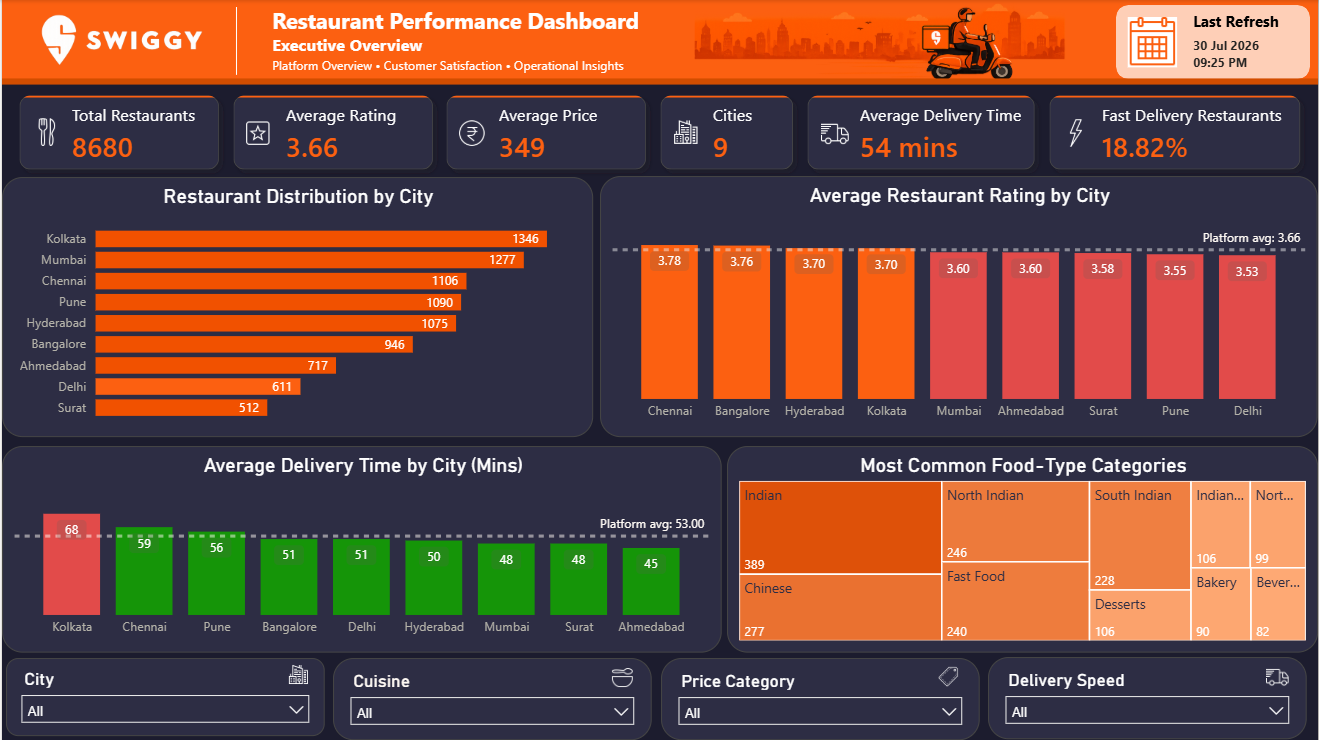

What the dashboard file says about the page in this screenshot:
{"tool":"powerbi","page":{"name":"Executive Overview","canvas":[1280,720],"ordinal":0},"visuals":[{"type":"group","id":"g1","title":"Group 1","box":[1083.6,4.9,188.7,72],"z":0,"group":"g2"},{"type":"shape","title":"Last Refresh","box":[1083.6,4.9,188.7,72],"z":0,"group":"g1"},{"type":"cardVisual","title":"Total Resturant ","fields":{"Data":["CountNonNull(swiggy.Restaurant)"]},"box":[0,75.5,228.6,106],"z":0,"group":"g4"},{"type":"cardVisual","title":"Total Resturant ","fields":{"Data":["swiggy.Fast Delivery %"]},"box":[1001.8,75.9,278.2,106],"z":0,"group":"g9"},{"type":"clusteredBarChart","title":"Restaurant Distribution by City","fields":{"Category":["swiggy.City"],"Y":["swiggy.Total Restaurants"]},"box":[0,172.2,574.8,252.9],"z":0},{"type":"image","box":[1068,16.6,102.1,48.6],"z":1000,"group":"g2"},{"type":"image","box":[1031,108,27.2,42.8],"z":1000,"group":"g9"},{"type":"clusteredColumnChart","title":"Average Restaurant Rating by City","fields":{"Category":["swiggy.City"],"Y":["swiggy.Average Rating"]},"box":[581.6,171.2,698.4,253.9],"z":1000},{"type":"textbox","box":[1153.6,4.9,96.3,32.1],"z":2000,"group":"g1"},{"type":"clusteredColumnChart","title":"Average Delivery Time by City (Mins)","fields":{"Category":["swiggy.City"],"Y":["swiggy.Average Delivery Time"]},"box":[0,433.8,700.3,201.3],"z":2000},{"type":"textbox","box":[1153.6,29.2,116.7,47.7],"z":3000,"group":"g1"},{"type":"treemap","title":"Most Common Food-Type Categories","fields":{"Group":["swiggy.Food type"],"Values":["swiggy.Total Restaurants"]},"box":[705.2,433.8,574.8,201.3],"z":3000},{"type":"shape","box":[0,0,1280,79.8],"z":4000},{"type":"slicer","fields":{"Values":["swiggy.City"]},"box":[3.9,640,310,75.9],"z":4000,"group":"g10"},{"type":"slicer","fields":{"Values":["swiggy.Food type"]},"box":[322.3,640,310,80],"z":4000,"group":"g12"},{"type":"image","box":[414.3,0,842.3,79.8],"z":5000},{"type":"slicer","fields":{"Values":["swiggy.Price Category"]},"box":[640.6,640,310,79.8],"z":5000,"group":"g11"},{"type":"group","id":"g2","title":"Group 2","box":[1068,4.9,204.3,72],"z":6000},{"type":"slicer","fields":{"Values":["swiggy.Delivery Category"]},"box":[959,639,310,79.8],"z":6000,"group":"g13"},{"type":"group","id":"g3","title":"Group 3","box":[0,0,674,79.8],"z":7000},{"type":"group","id":"g4","title":"Group 4","box":[0,75.5,228.3,106.2],"z":8000},{"type":"group","id":"g5","title":"Group 5","box":[207.7,75.9,228.6,106],"z":9000},{"type":"group","id":"g6","title":"Group 6","box":[415.7,75.9,228.6,106],"z":10000},{"type":"group","id":"g7","title":"Group 7","box":[623.7,75.9,163.4,106],"z":11000},{"type":"group","id":"g8","title":"Group 8","box":[766.6,75.9,255.8,106],"z":12000},{"type":"group","id":"g9","title":"Group 9","box":[1001.8,75.9,278.2,106],"z":13000},{"type":"image","box":[30.2,106.6,27.2,43.8],"z":13000,"group":"g4"},{"type":"shape","box":[0,59.3,1280,39.9],"z":14000},{"type":"cardVisual","title":"Total Resturant ","fields":{"Data":["swiggy.Average Rating"]},"box":[207.7,75.9,228.6,106],"z":14000,"group":"g5"},{"type":"image","box":[0,0,235.4,79.8],"z":15000,"group":"g3"},{"type":"image","box":[234.9,108,27.2,42.8],"z":15000,"group":"g5"},{"type":"group","id":"g10","title":"Group 10","box":[3.9,635.1,310,80.7],"z":15000},{"type":"textbox","box":[257.8,0,416.3,79.8],"z":16000,"group":"g3"},{"type":"cardVisual","title":"Total Resturant ","fields":{"Data":["swiggy.Average Price"]},"box":[415.7,75.9,228.6,106],"z":16000,"group":"g6"},{"type":"group","id":"g11","title":"Group 11","box":[640.6,637.1,310,82.7],"z":16000},{"type":"image","box":[443.9,108,27.2,42.8],"z":17000,"group":"g6"},{"type":"group","id":"g12","title":"Group 12","box":[322.3,638.1,310,81.9],"z":17000},{"type":"shape","box":[177,6.8,102.1,66.1],"z":17009,"group":"g3"},{"type":"cardVisual","title":"Total Resturant ","fields":{"Data":["Count(swiggy.City)"]},"box":[623.7,75.9,163.4,106],"z":18000,"group":"g7"},{"type":"image","box":[908.1,637.1,23.7,41.8],"z":18000,"group":"g11"},{"type":"group","id":"g13","title":"Group 13","box":[959,637.1,310,81.7],"z":18000},{"type":"image","box":[651.9,107,27.2,43],"z":19000,"group":"g7"},{"type":"image","box":[276.9,635.1,22.2,42.8],"z":19000,"group":"g10"},{"type":"image","box":[592.4,638.1,22.4,41.8],"z":19002,"group":"g12"},{"type":"image","box":[1229.4,637.1,22.4,41.8],"z":19004,"group":"g13"},{"type":"cardVisual","title":"Total Resturant ","fields":{"Data":["swiggy.Average Delivery Time Display"]},"box":[766.6,75.9,255.8,106],"z":20000,"group":"g8"},{"type":"image","box":[796.8,108,27.2,43],"z":21000,"group":"g8"}]}

Visuals, with their boxes in screenshot pixels (x1, y1, x2, y2), scaled from the page's 1280x720 canvas onto the 1319x740 screenshot:
"Group 1" group: region(1117, 5, 1311, 79)
"Last Refresh" shape: region(1117, 5, 1311, 79)
"Total Resturant " cardVisual: region(0, 78, 236, 187)
"Total Resturant " cardVisual: region(1032, 78, 1318, 187)
"Restaurant Distribution by City" clusteredBarChart: region(0, 177, 592, 437)
image: region(1101, 17, 1206, 67)
image: region(1062, 111, 1090, 155)
"Average Restaurant Rating by City" clusteredColumnChart: region(599, 176, 1318, 437)
textbox: region(1189, 5, 1288, 38)
"Average Delivery Time by City (Mins)" clusteredColumnChart: region(0, 446, 722, 653)
textbox: region(1189, 30, 1309, 79)
"Most Common Food-Type Categories" treemap: region(727, 446, 1318, 653)
shape: region(0, 0, 1318, 82)
slicer - swiggy.City: region(4, 658, 323, 736)
slicer - swiggy.Food type: region(332, 658, 652, 739)
image: region(427, 0, 1295, 82)
slicer - swiggy.Price Category: region(660, 658, 980, 739)
"Group 2" group: region(1101, 5, 1311, 79)
slicer - swiggy.Delivery Category: region(988, 657, 1308, 739)
"Group 3" group: region(0, 0, 695, 82)
"Group 4" group: region(0, 78, 235, 187)
"Group 5" group: region(214, 78, 450, 187)
"Group 6" group: region(428, 78, 664, 187)
"Group 7" group: region(643, 78, 811, 187)
"Group 8" group: region(790, 78, 1054, 187)
"Group 9" group: region(1032, 78, 1318, 187)
image: region(31, 110, 59, 155)
shape: region(0, 61, 1318, 102)
"Total Resturant " cardVisual: region(214, 78, 450, 187)
image: region(0, 0, 243, 82)
image: region(242, 111, 270, 155)
"Group 10" group: region(4, 653, 323, 736)
textbox: region(266, 0, 695, 82)
"Total Resturant " cardVisual: region(428, 78, 664, 187)
"Group 11" group: region(660, 655, 980, 739)
image: region(457, 111, 485, 155)
"Group 12" group: region(332, 656, 652, 739)
shape: region(182, 7, 288, 75)
"Total Resturant " cardVisual: region(643, 78, 811, 187)
image: region(936, 655, 960, 698)
"Group 13" group: region(988, 655, 1308, 739)
image: region(672, 110, 700, 154)
image: region(285, 653, 308, 697)
image: region(610, 656, 634, 699)
image: region(1267, 655, 1290, 698)
"Total Resturant " cardVisual: region(790, 78, 1054, 187)
image: region(821, 111, 849, 155)
